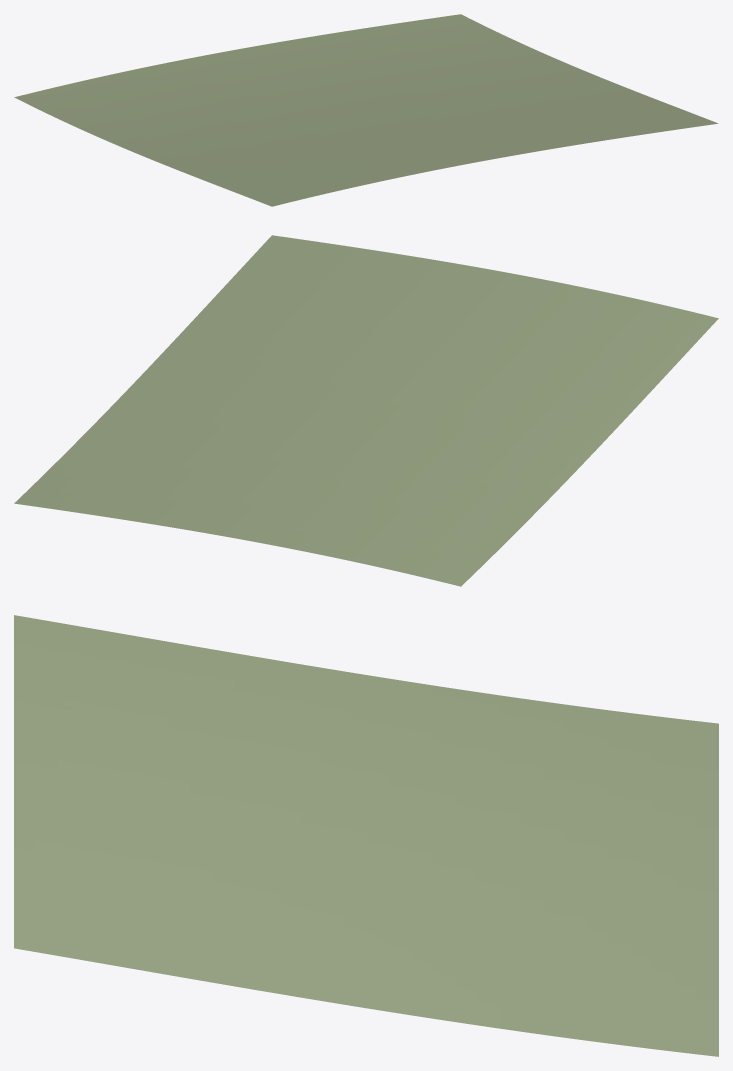
Rendered from valley-11-13.glb.
3 renders of one model, top to bottom at view 1: azimuth 30°, elevation 25°; view 2: azimuth 150°, elevation 25°; view 3: azimuth 270°, elevation 25°, orthographic. The views are drawn at different scales.
Parts seen in each view (by area): view 1: valley-11-13; view 2: valley-11-13; view 3: valley-11-13.
Part boxes in pixels (box(x1,y1,x2,y2)): valley-11-13: box(14, 14, 718, 206); valley-11-13: box(14, 235, 718, 586); valley-11-13: box(14, 615, 718, 1056).
Size of the model in its own units: 256 by 57.69 by 256.
